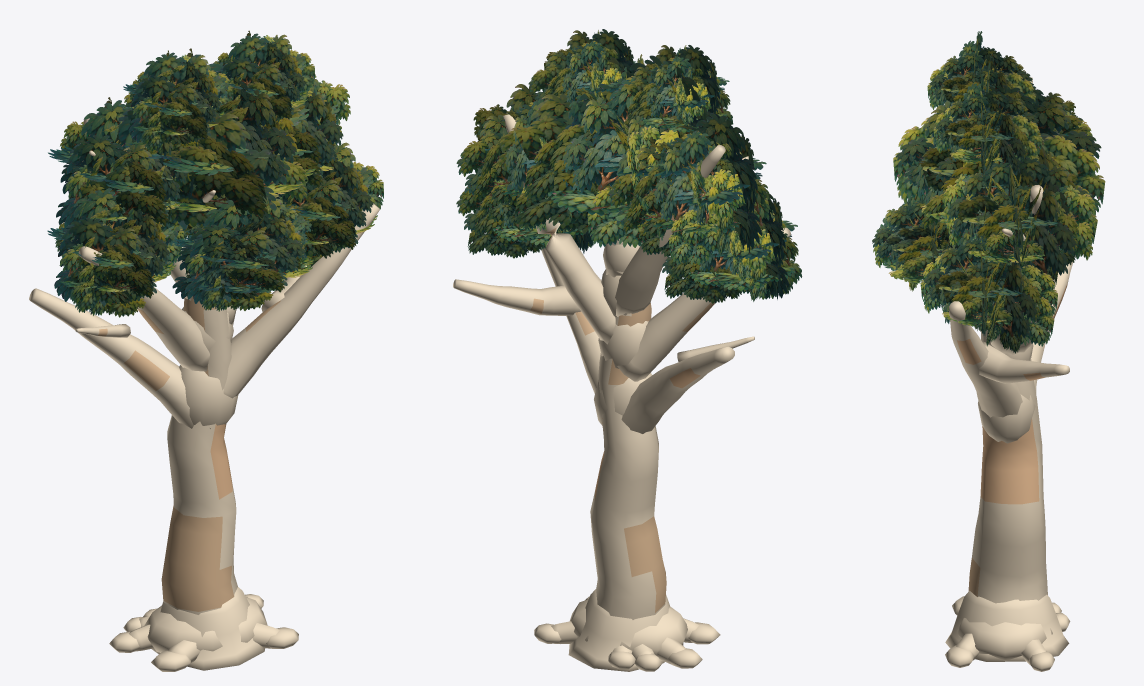
File: TREE_EUCALYPTUS_001_v011_LOD_GAMEPLAY.glb
3 renders of one model, left to right at view 1: azimuth 30°, elevation 25°; view 2: azimuth 150°, elevation 25°; view 3: azimuth 270°, elevation 25°, orthographic. The views are drawn at different scales.
Visible parts, largest first — view 1: TREE_EUCALYPTUS_001_GAMEPLAY_AUTHORED_FOLIAGE_ISLANDS, TREE_EUCALYPTUS_001_GAMEPLAY_MAIN_TRUNK, TREE_EUCALYPTUS_001_GAMEPLAY_MID_RIGHT_SWEEP, TREE_EUCALYPTUS_001_GAMEPLAY_LOWER_LEFT_SWEEP, TREE_EUCALYPTUS_001_GAMEPLAY_SCULPTED_ROOT_COLLAR, TREE_EUCALYPTUS_001_GAMEPLAY_MID_LEFT_ARCH, TREE_EUCALYPTUS_001_GAMEPLAY_BROAD_PLANTED_ROOT_MOUND, TREE_EUCALYPTUS_001_GAMEPLAY_SCULPTED_FORK_SWELL_0, TREE_EUCALYPTUS_001_GAMEPLAY_ROOT_TOE_FRONT_LEFT; view 2: TREE_EUCALYPTUS_001_GAMEPLAY_AUTHORED_FOLIAGE_ISLANDS, TREE_EUCALYPTUS_001_GAMEPLAY_MAIN_TRUNK, TREE_EUCALYPTUS_001_GAMEPLAY_LOWER_LEFT_SWEEP, TREE_EUCALYPTUS_001_GAMEPLAY_UPPER_RIGHT_ARCH, TREE_EUCALYPTUS_001_GAMEPLAY_SCULPTED_ROOT_COLLAR, TREE_EUCALYPTUS_001_GAMEPLAY_MID_LEFT_ARCH, TREE_EUCALYPTUS_001_GAMEPLAY_UPPER_LEFT_FORK, TREE_EUCALYPTUS_001_GAMEPLAY_LOWER_RIGHT_REACH, TREE_EUCALYPTUS_001_GAMEPLAY_BROAD_PLANTED_ROOT_MOUND, TREE_EUCALYPTUS_001_GAMEPLAY_MID_RIGHT_SWEEP, TREE_EUCALYPTUS_001_GAMEPLAY_SCULPTED_FORK_SWELL_1, TREE_EUCALYPTUS_001_GAMEPLAY_SCULPTED_FORK_SWELL_0 (+1 smaller); view 3: TREE_EUCALYPTUS_001_GAMEPLAY_AUTHORED_FOLIAGE_ISLANDS, TREE_EUCALYPTUS_001_GAMEPLAY_MAIN_TRUNK, TREE_EUCALYPTUS_001_GAMEPLAY_SCULPTED_ROOT_COLLAR, TREE_EUCALYPTUS_001_GAMEPLAY_MID_RIGHT_SWEEP, TREE_EUCALYPTUS_001_GAMEPLAY_BROAD_PLANTED_ROOT_MOUND, TREE_EUCALYPTUS_001_GAMEPLAY_LOWER_RIGHT_REACH, TREE_EUCALYPTUS_001_GAMEPLAY_SCULPTED_FORK_SWELL_0, TREE_EUCALYPTUS_001_GAMEPLAY_LOWER_LEFT_SWEEP, TREE_EUCALYPTUS_001_GAMEPLAY_UPPER_RIGHT_ARCH, TREE_EUCALYPTUS_001_GAMEPLAY_ROOT_TOE_FRONT_RIGHT.
Part boxes in pixels (x1,y1,x2,y2): TREE_EUCALYPTUS_001_GAMEPLAY_AUTHORED_FOLIAGE_ISLANDS: (47, 30, 383, 317); TREE_EUCALYPTUS_001_GAMEPLAY_MAIN_TRUNK: (161, 296, 237, 614); TREE_EUCALYPTUS_001_GAMEPLAY_MID_RIGHT_SWEEP: (223, 203, 380, 398); TREE_EUCALYPTUS_001_GAMEPLAY_LOWER_LEFT_SWEEP: (29, 288, 210, 428); TREE_EUCALYPTUS_001_GAMEPLAY_SCULPTED_ROOT_COLLAR: (152, 587, 264, 670); TREE_EUCALYPTUS_001_GAMEPLAY_MID_LEFT_ARCH: (78, 246, 209, 371); TREE_EUCALYPTUS_001_GAMEPLAY_BROAD_PLANTED_ROOT_MOUND: (144, 597, 267, 652); TREE_EUCALYPTUS_001_GAMEPLAY_SCULPTED_FORK_SWELL_0: (179, 365, 238, 425); TREE_EUCALYPTUS_001_GAMEPLAY_ROOT_TOE_FRONT_LEFT: (151, 650, 190, 671); TREE_EUCALYPTUS_001_GAMEPLAY_AUTHORED_FOLIAGE_ISLANDS: (456, 29, 802, 303); TREE_EUCALYPTUS_001_GAMEPLAY_MAIN_TRUNK: (590, 238, 666, 619); TREE_EUCALYPTUS_001_GAMEPLAY_LOWER_LEFT_SWEEP: (621, 346, 734, 433); TREE_EUCALYPTUS_001_GAMEPLAY_UPPER_RIGHT_ARCH: (503, 113, 615, 344); TREE_EUCALYPTUS_001_GAMEPLAY_SCULPTED_ROOT_COLLAR: (568, 589, 683, 671); TREE_EUCALYPTUS_001_GAMEPLAY_MID_LEFT_ARCH: (617, 227, 790, 381); TREE_EUCALYPTUS_001_GAMEPLAY_UPPER_LEFT_FORK: (615, 145, 725, 316); TREE_EUCALYPTUS_001_GAMEPLAY_LOWER_RIGHT_REACH: (453, 279, 580, 315); TREE_EUCALYPTUS_001_GAMEPLAY_BROAD_PLANTED_ROOT_MOUND: (570, 599, 687, 655); TREE_EUCALYPTUS_001_GAMEPLAY_MID_RIGHT_SWEEP: (541, 247, 600, 393); TREE_EUCALYPTUS_001_GAMEPLAY_SCULPTED_FORK_SWELL_1: (598, 321, 648, 368); TREE_EUCALYPTUS_001_GAMEPLAY_SCULPTED_FORK_SWELL_0: (594, 373, 652, 425); TREE_EUCALYPTUS_001_GAMEPLAY_AUTHORED_FOLIAGE_ISLANDS: (872, 31, 1105, 353); TREE_EUCALYPTUS_001_GAMEPLAY_MAIN_TRUNK: (968, 330, 1047, 603); TREE_EUCALYPTUS_001_GAMEPLAY_SCULPTED_ROOT_COLLAR: (945, 590, 1069, 661); TREE_EUCALYPTUS_001_GAMEPLAY_MID_RIGHT_SWEEP: (949, 301, 1022, 417); TREE_EUCALYPTUS_001_GAMEPLAY_BROAD_PLANTED_ROOT_MOUND: (957, 618, 1052, 660); TREE_EUCALYPTUS_001_GAMEPLAY_LOWER_RIGHT_REACH: (979, 341, 1069, 383); TREE_EUCALYPTUS_001_GAMEPLAY_SCULPTED_FORK_SWELL_0: (978, 394, 1035, 443); TREE_EUCALYPTUS_001_GAMEPLAY_LOWER_LEFT_SWEEP: (1031, 255, 1075, 393); TREE_EUCALYPTUS_001_GAMEPLAY_UPPER_RIGHT_ARCH: (991, 185, 1043, 354); TREE_EUCALYPTUS_001_GAMEPLAY_ROOT_TOE_FRONT_RIGHT: (945, 645, 974, 667).
Size of the model in its own units: 7.87 by 13.1 by 5.55.
Materials: 5 (1 with a texture image).
